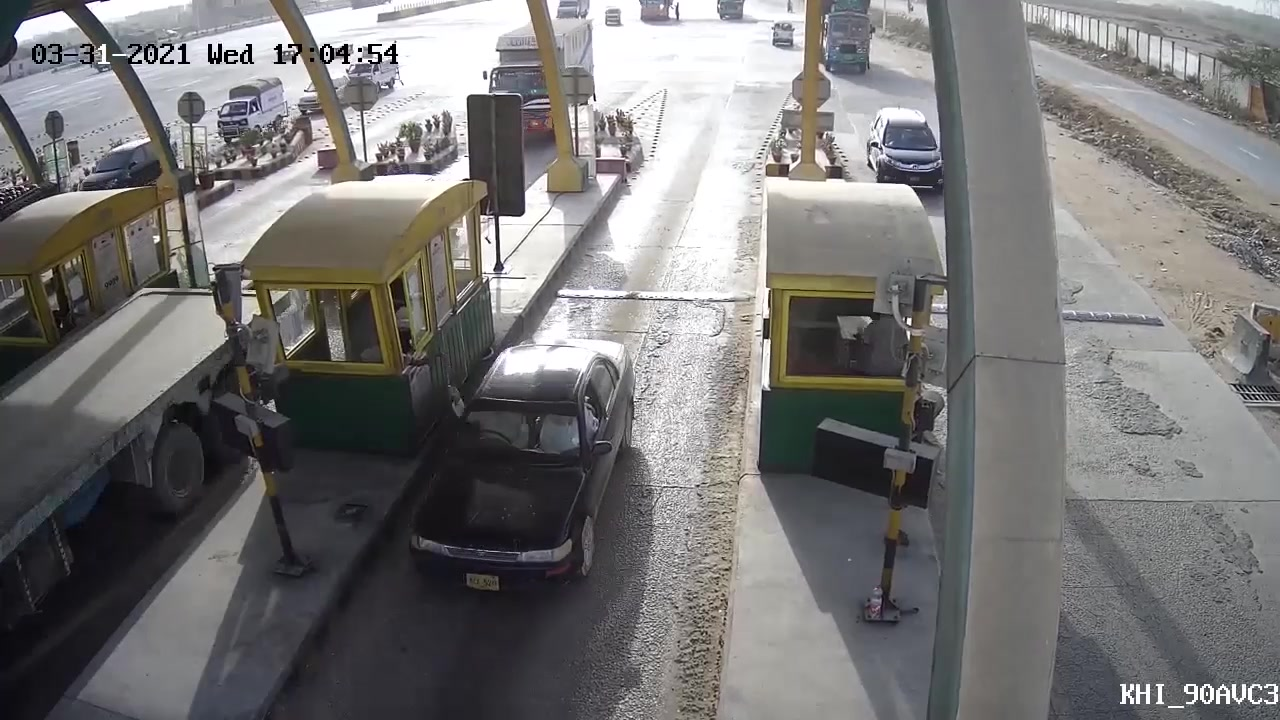F1: (389, 333, 640, 605)
